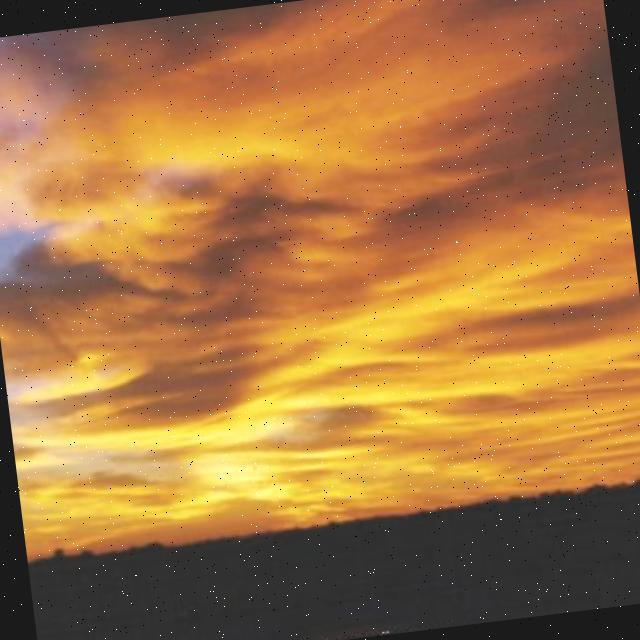As: (1, 1, 640, 529)
